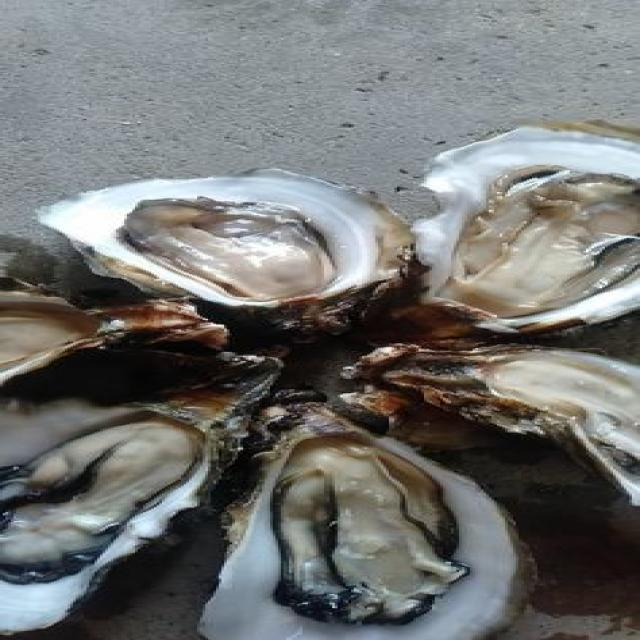Oyster-Open: (200, 378, 530, 640), (0, 353, 292, 640), (361, 119, 640, 369), (25, 169, 425, 333), (351, 342, 640, 506), (0, 277, 217, 388)
